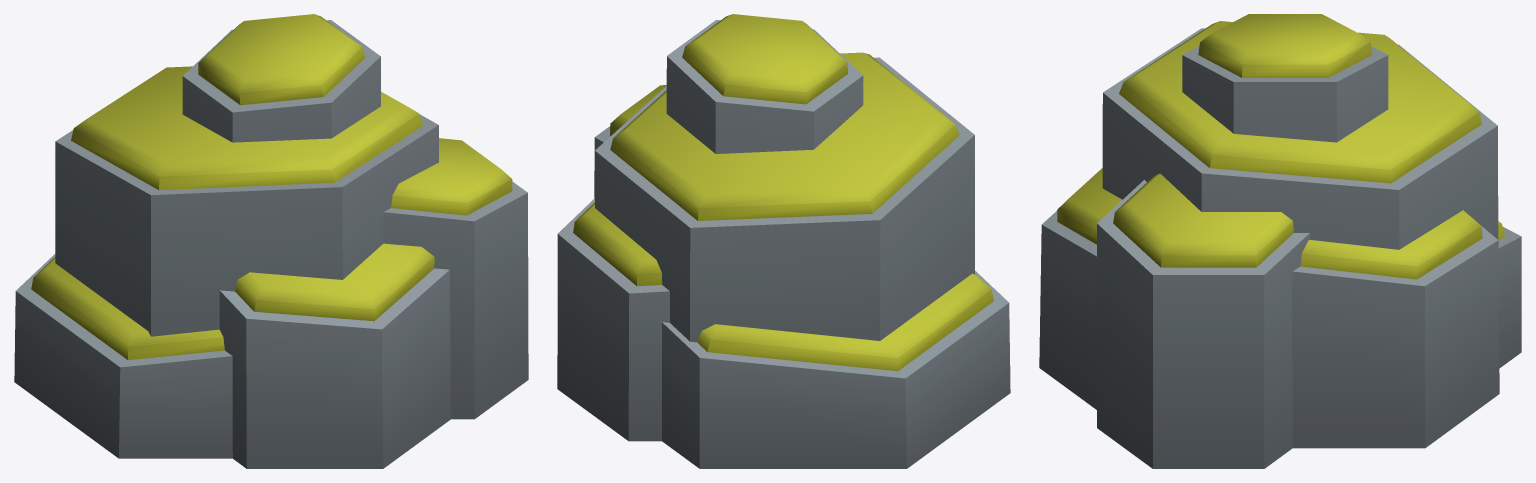
Rendered from d_kaykit_piton_herbu.glb.
The picture shows the model from 3 angles, left to right: view 1: azimuth 30°, elevation 25°; view 2: azimuth 150°, elevation 25°; view 3: azimuth 270°, elevation 25°; orthographic projection. The views are drawn at different scales.
Parts seen in each view (by area): view 1: d_kaykit_piton_herbu; view 2: d_kaykit_piton_herbu; view 3: d_kaykit_piton_herbu.
Boxes of the visible parts, x1,y1,x2,y2 form: d_kaykit_piton_herbu: (14, 14, 528, 468); d_kaykit_piton_herbu: (557, 14, 1010, 468); d_kaykit_piton_herbu: (1039, 14, 1521, 468).
Size of the model in its own units: 1.8 by 1.5 by 1.88.
Materials: 1 (1 with a texture image).
